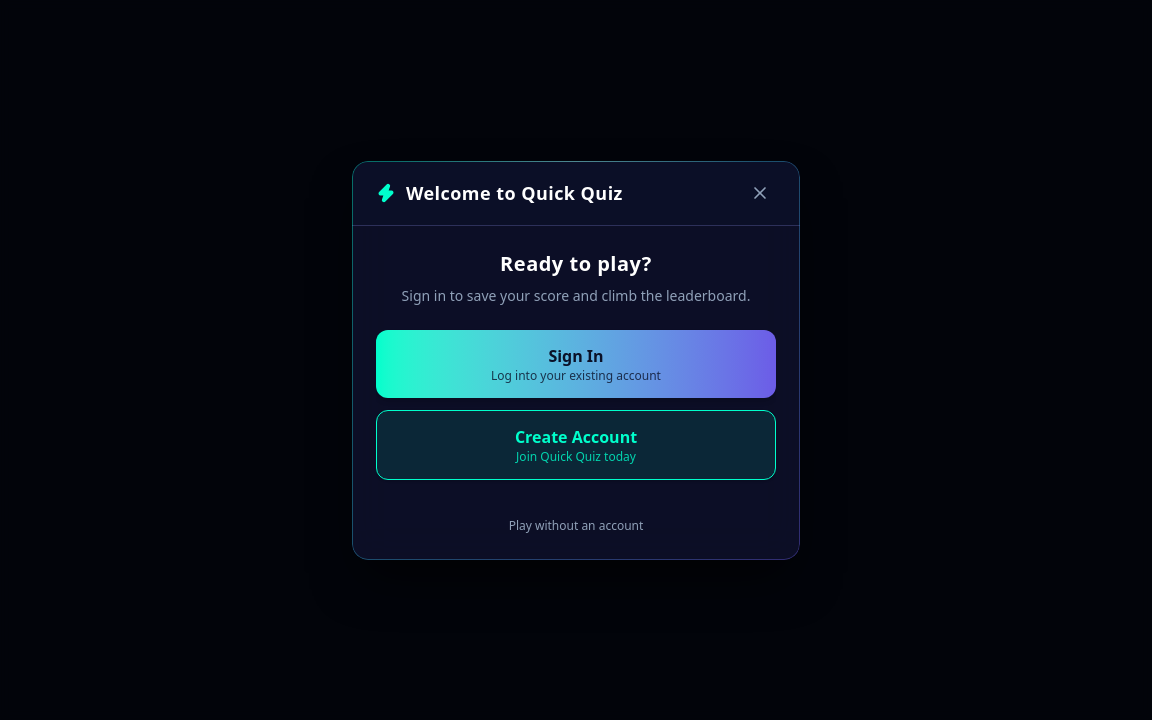
Test case: AuthPopup › navigates to login method tabs when Sign In is clicked
Click Sign In
Click the button "Sign In Log into your existing account" at (576, 364), box [376, 330, 776, 398]
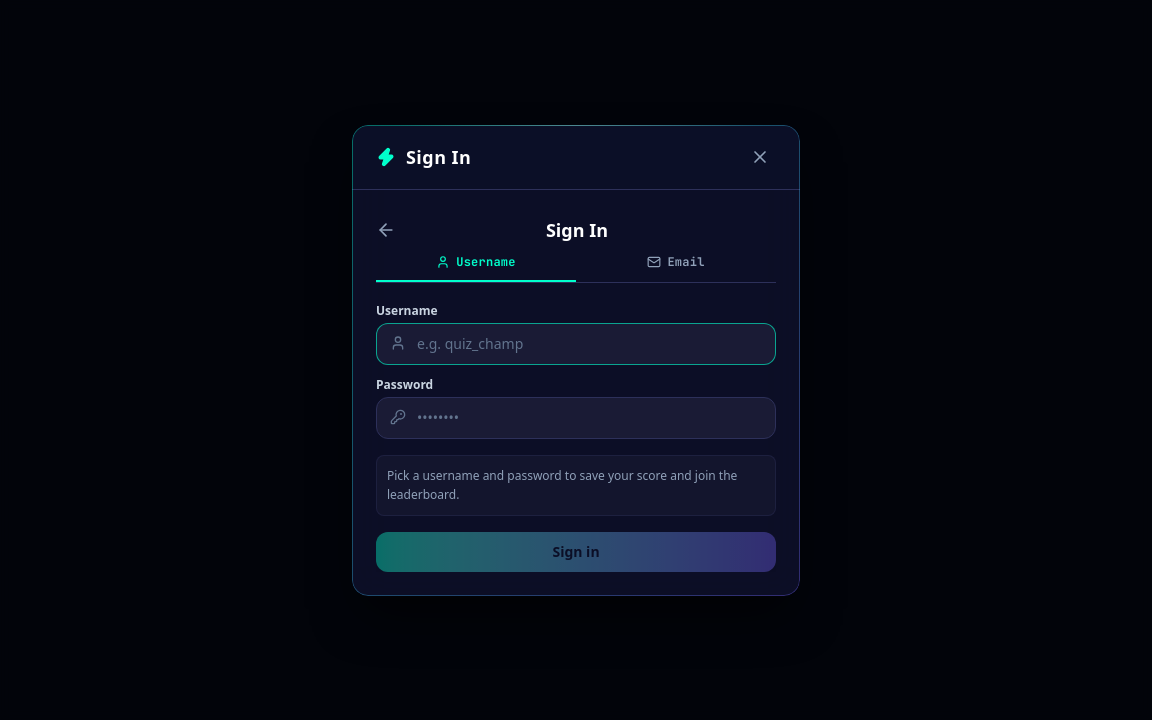
Expected: the 1st heading "Sign In" is shown, [406, 142, 471, 170]
Expected: the button "Username" is shown, [376, 254, 576, 282]
